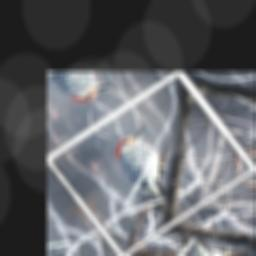Woodpecker: (100, 120, 191, 210)
